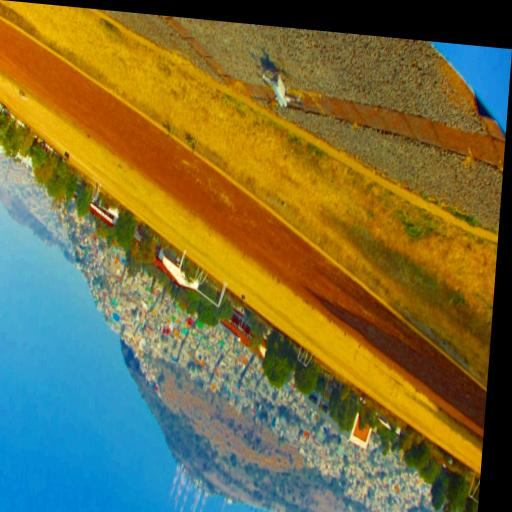drones: (252, 67, 307, 114)
